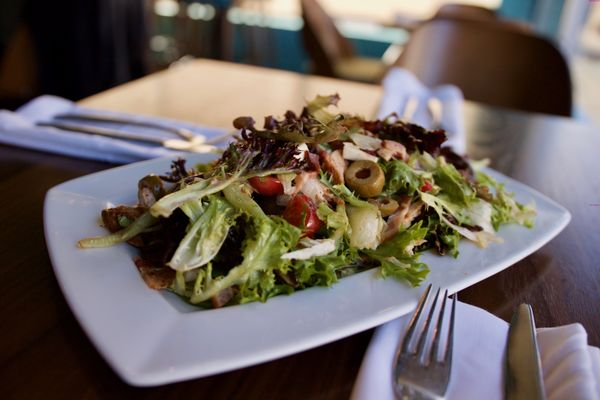burger: (392, 283, 455, 399)
